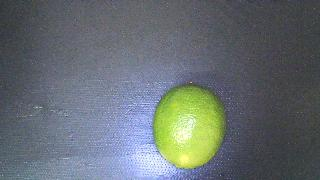EXPORTACION: (153, 83, 226, 169)
